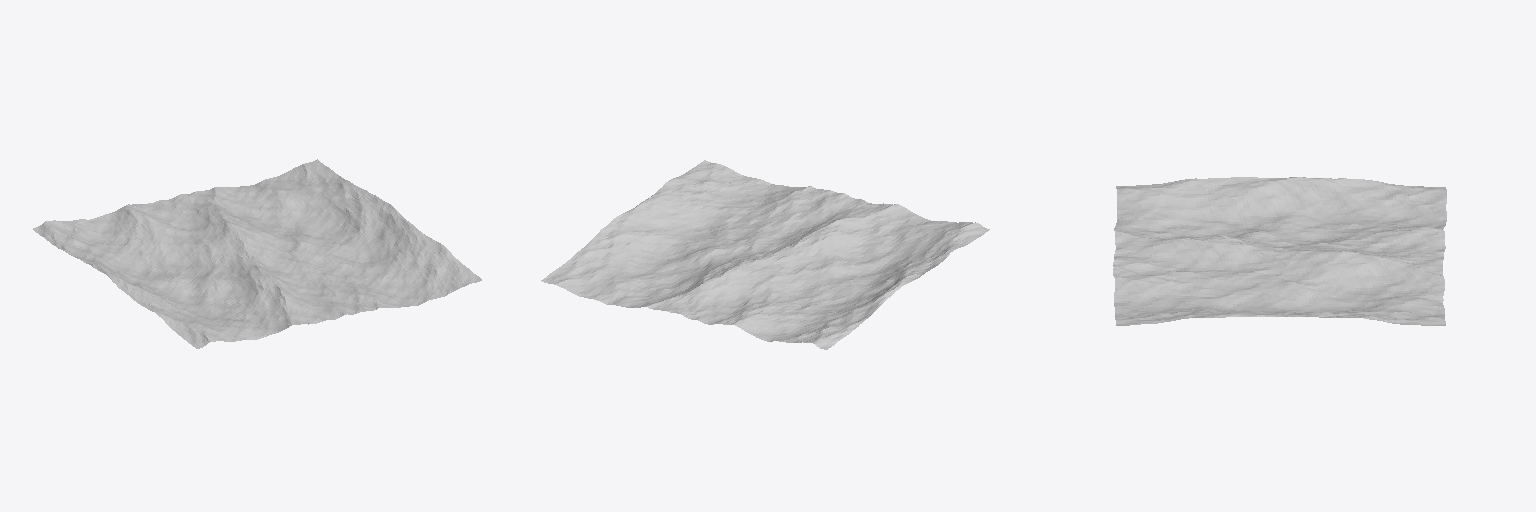
The model's file is ocean.obj.
The picture shows the model from 3 angles: view 1: azimuth 30°, elevation 25°; view 2: azimuth 150°, elevation 25°; view 3: azimuth 270°, elevation 25°; orthographic projection.
Parts seen in each view (by area): view 1: Plane; view 2: Plane; view 3: Plane.
Part boxes in pixels (left/top/right/bottom): Plane: left=33, top=159, right=481, bottom=348; Plane: left=541, top=160, right=989, bottom=349; Plane: left=1113, top=177, right=1446, bottom=325.
Size of the model in its own units: 50.76 by 3.59 by 50.65.